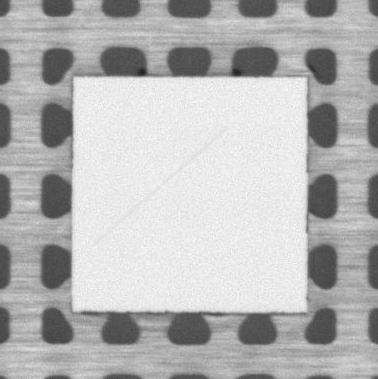DIE_CRACK: (93, 128, 226, 246)
